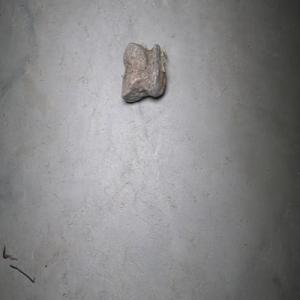Rock: (120, 42, 167, 102)
